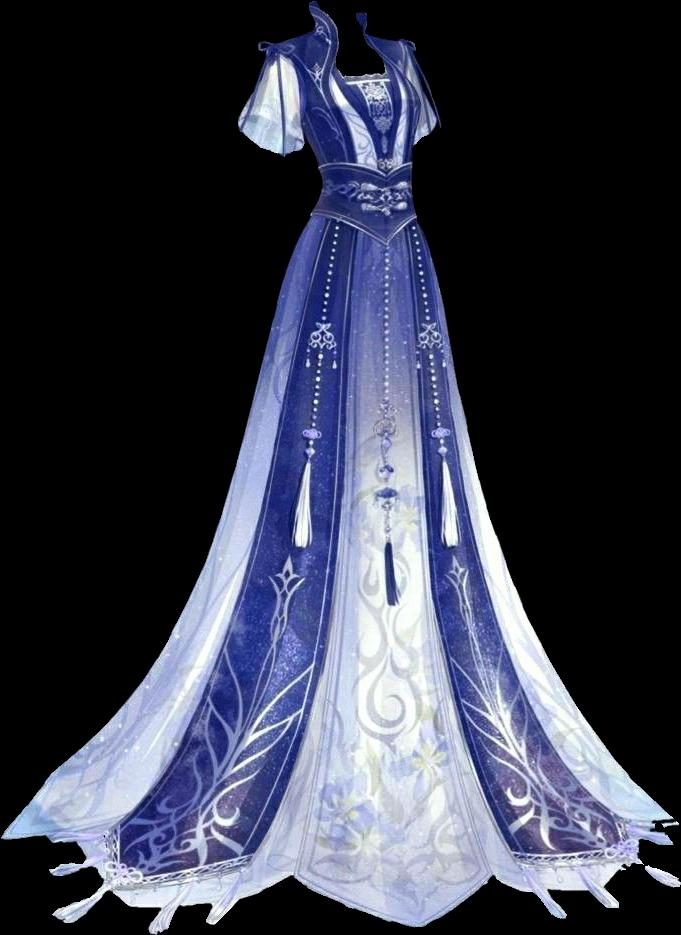Bodice: (272, 1, 420, 248)
Hemline: (105, 223, 366, 893), (400, 231, 636, 868), (0, 774, 667, 932)
Neckline: (309, 0, 394, 79), (319, 156, 413, 182)
Skirt: (1, 216, 665, 926)
Sleeve: (238, 48, 306, 156)
Sleeveline: (262, 44, 311, 141)
Waistline: (308, 209, 419, 255)
